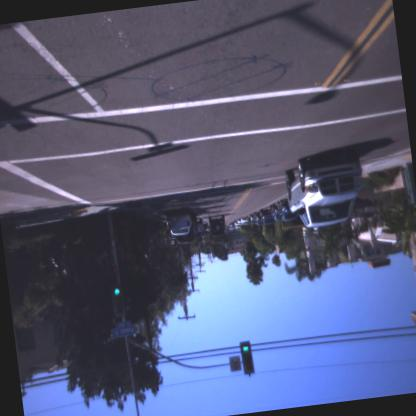trafficlight: (237, 340, 255, 376)
